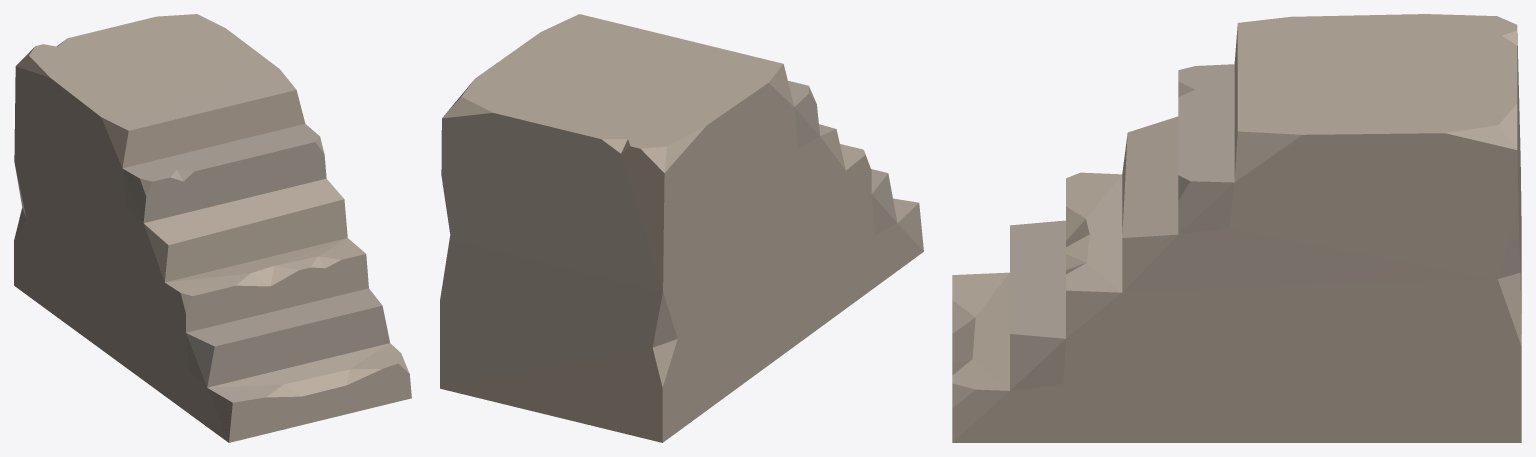
File: SM_Bld_Village_Stairs_02.fbx
The picture shows the model from 3 angles, left to right: view 1: azimuth 30°, elevation 25°; view 2: azimuth 150°, elevation 25°; view 3: azimuth 270°, elevation 25°; orthographic projection. The views are drawn at different scales.
Parts seen in each view (by area): view 1: SM_Bld_Village_Stairs_02; view 2: SM_Bld_Village_Stairs_02; view 3: SM_Bld_Village_Stairs_02.
Part boxes in pixels (x1,y1,x2,y2): SM_Bld_Village_Stairs_02: (14, 14, 411, 442); SM_Bld_Village_Stairs_02: (440, 14, 923, 442); SM_Bld_Village_Stairs_02: (952, 14, 1521, 442).
Size of the model in its own units: 132 by 163 by 269.
